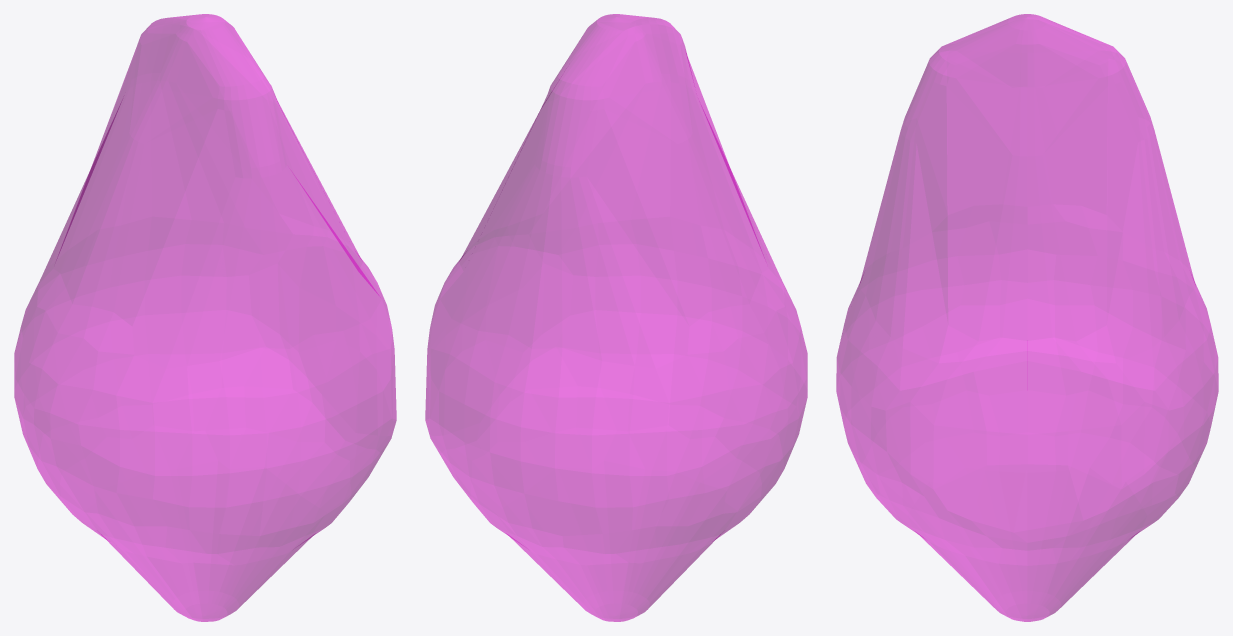
Rendered from Boss_Seal.fbx.
3 renders of one model, left to right at view 1: azimuth 30°, elevation 25°; view 2: azimuth 150°, elevation 25°; view 3: azimuth 270°, elevation 25°, orthographic.
Parts seen in each view (by area): view 1: Wrap LOW; view 2: Wrap LOW; view 3: Wrap LOW.
Part boxes in pixels (box(x1,y1,x2,y2)): Wrap LOW: box(14, 14, 396, 621); Wrap LOW: box(425, 14, 807, 621); Wrap LOW: box(836, 14, 1218, 621).
Bounding box in the file's own units: 240 × 422 × 244.
